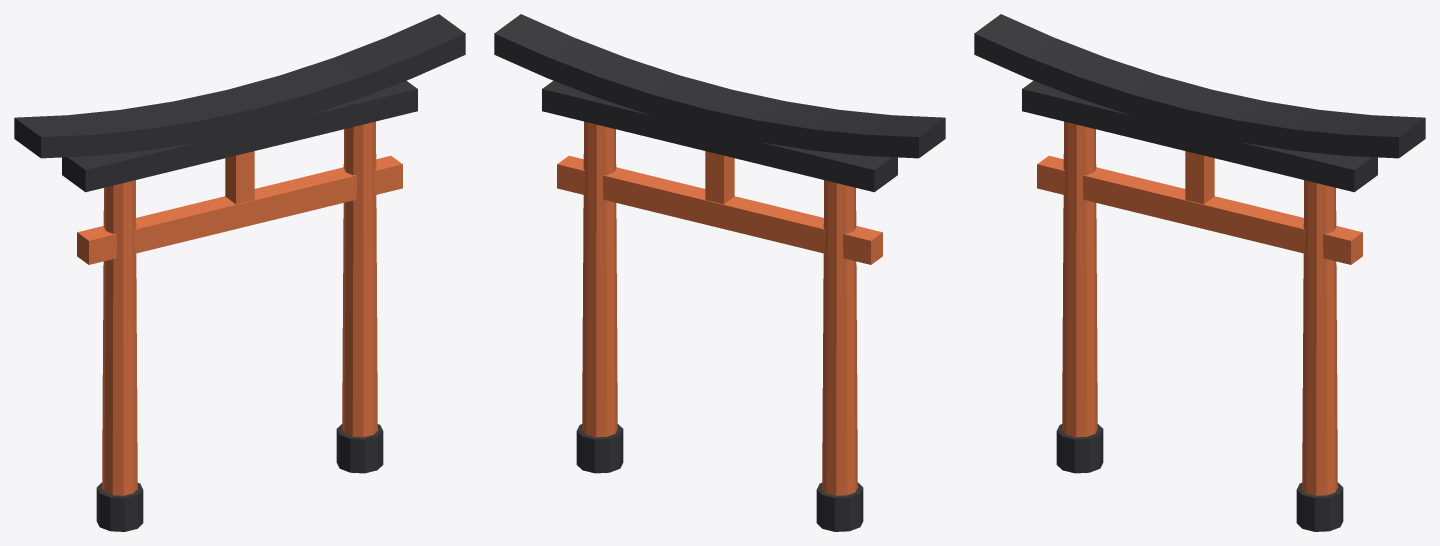
The model's file is torii.glb.
3 renders of one model, left to right at view 1: azimuth 30°, elevation 25°; view 2: azimuth 150°, elevation 25°; view 3: azimuth 330°, elevation 25°, orthographic.
Visible parts, largest first — view 1: torii; view 2: torii; view 3: torii.
Boxes of the visible parts, x1,y1,x2,y2 form: torii: (14, 14, 465, 531); torii: (494, 14, 945, 531); torii: (974, 14, 1425, 531).
Size of the model in its own units: 4.6 by 4.32 by 0.5.
